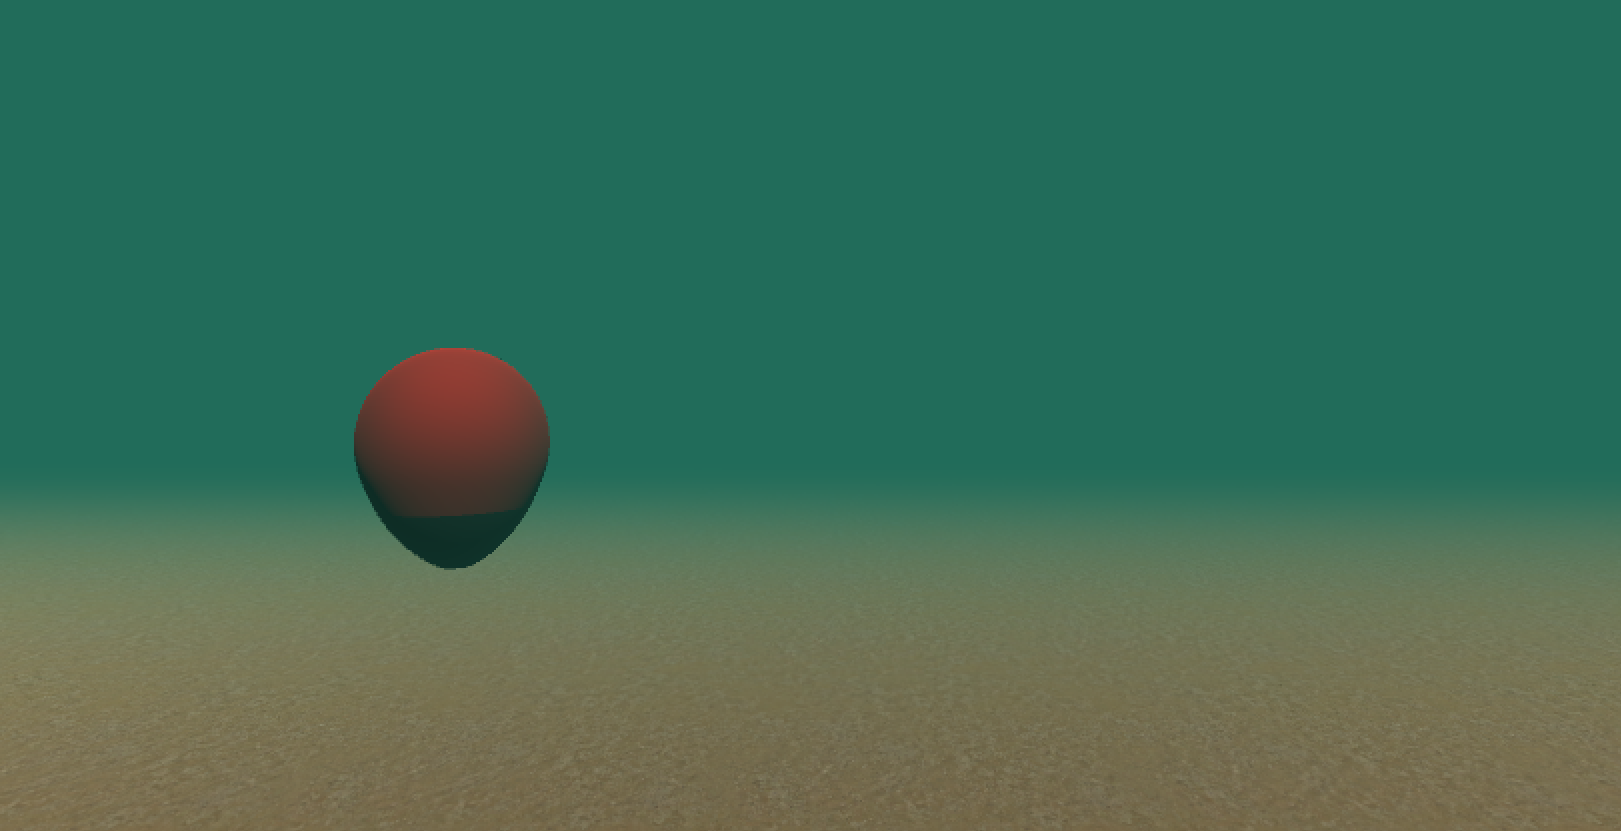red buoy: (348, 343, 555, 577)
